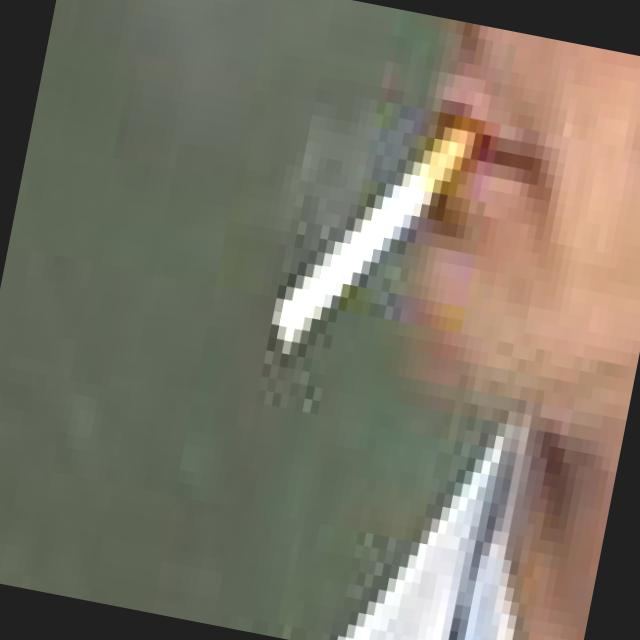cigarette: (238, 39, 508, 396)
